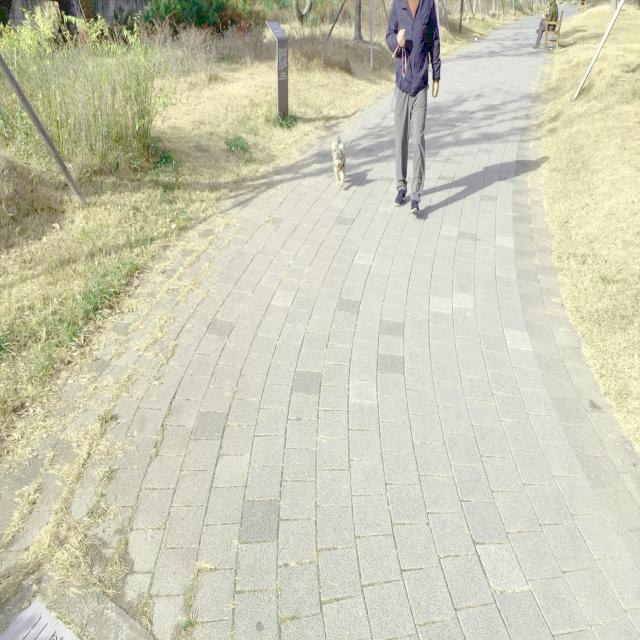Leashed_Dog: (331, 33, 409, 190)
